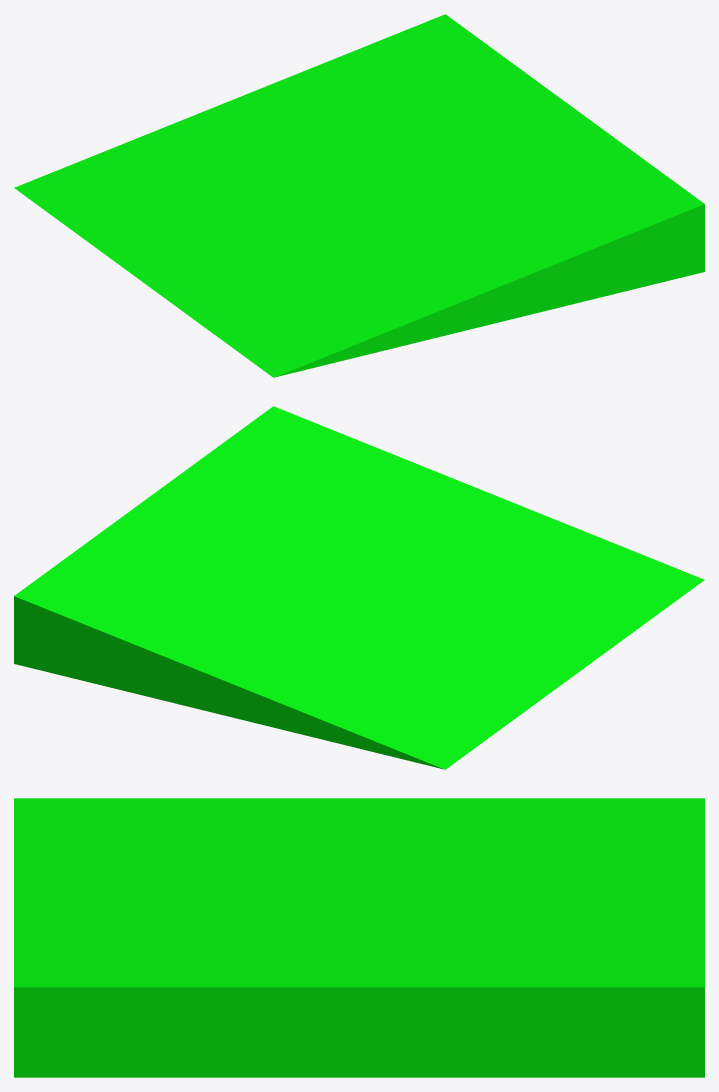
File: WedgeLow.FBX
3 renders of one model, top to bottom at view 1: azimuth 30°, elevation 25°; view 2: azimuth 150°, elevation 25°; view 3: azimuth 270°, elevation 25°, orthographic. The views are drawn at different scales.
Visible parts, largest first — view 1: Box001; view 2: Box001; view 3: Box001.
Part boxes in pixels (x1,y1,x2,y2): Box001: (14, 14, 704, 377); Box001: (14, 406, 704, 769); Box001: (14, 798, 704, 1077).
Bounding box in the file's own units: 940 × 142 × 979.
